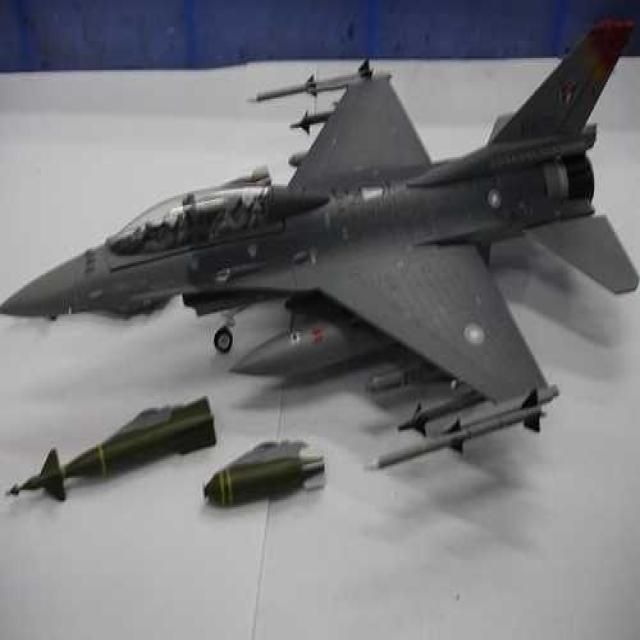missile: (10, 392, 217, 504), (367, 389, 556, 462), (246, 61, 392, 100)
